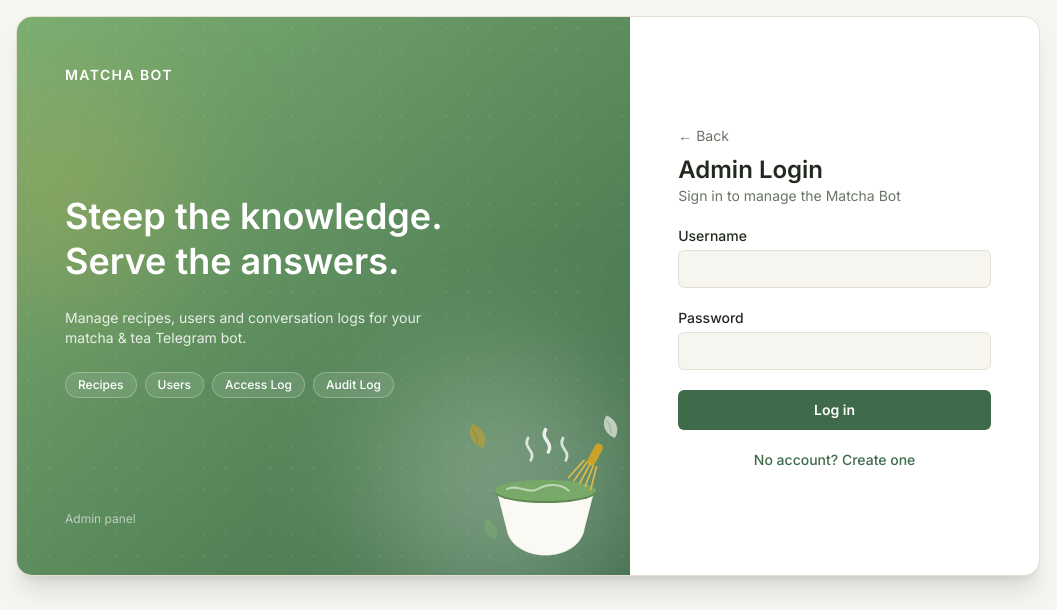
Scenario: LoginPage › registration › switches to register mode and back
The image size is (1057, 610).
Click the button "No account? Create one" at (835, 460), box x1=678 y1=450 x2=991 y2=470
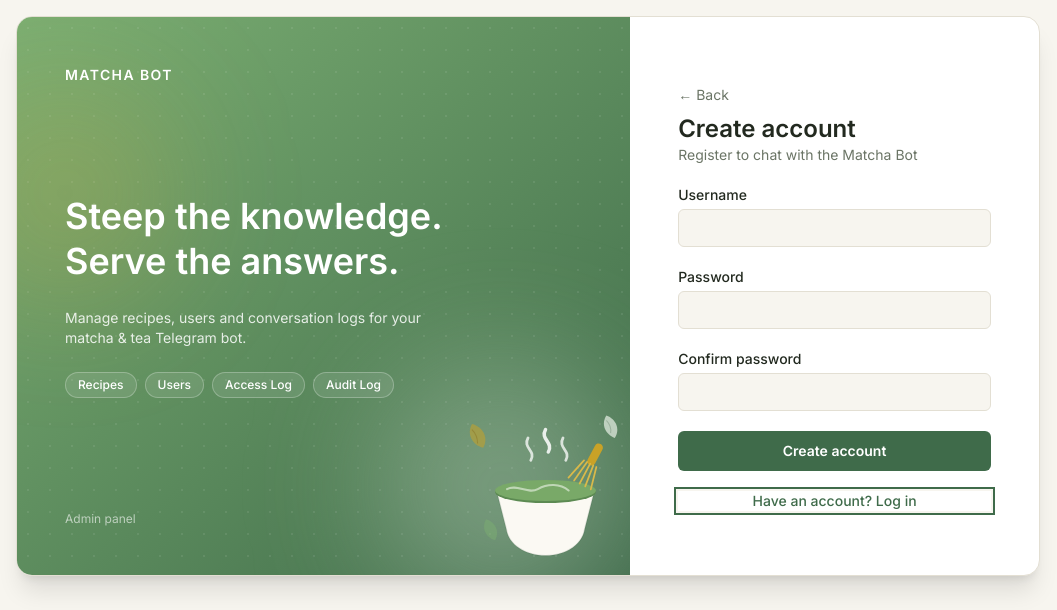
Check: the heading "Create account" is shown, box x1=678 y1=114 x2=856 y2=142
Check: the password field labelled "Confirm password" is shown, box x1=678 y1=372 x2=991 y2=410
Click the button "Have an account? Log in" at (835, 500), box x1=678 y1=490 x2=991 y2=510
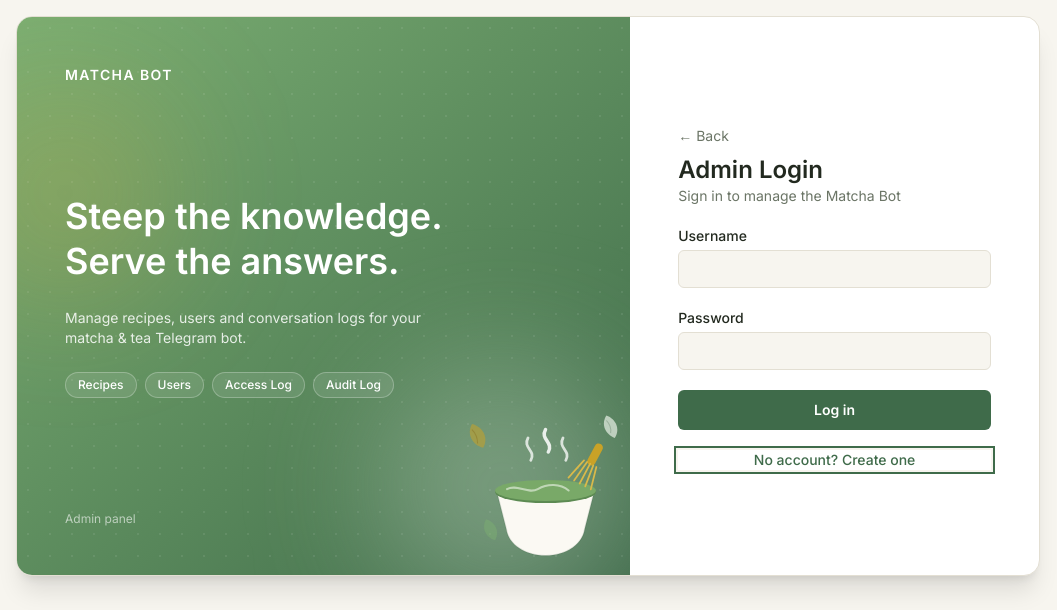
Check: the heading "Admin Login" is shown, box x1=678 y1=154 x2=823 y2=184
Check: the label labelled "Confirm password" is gone
